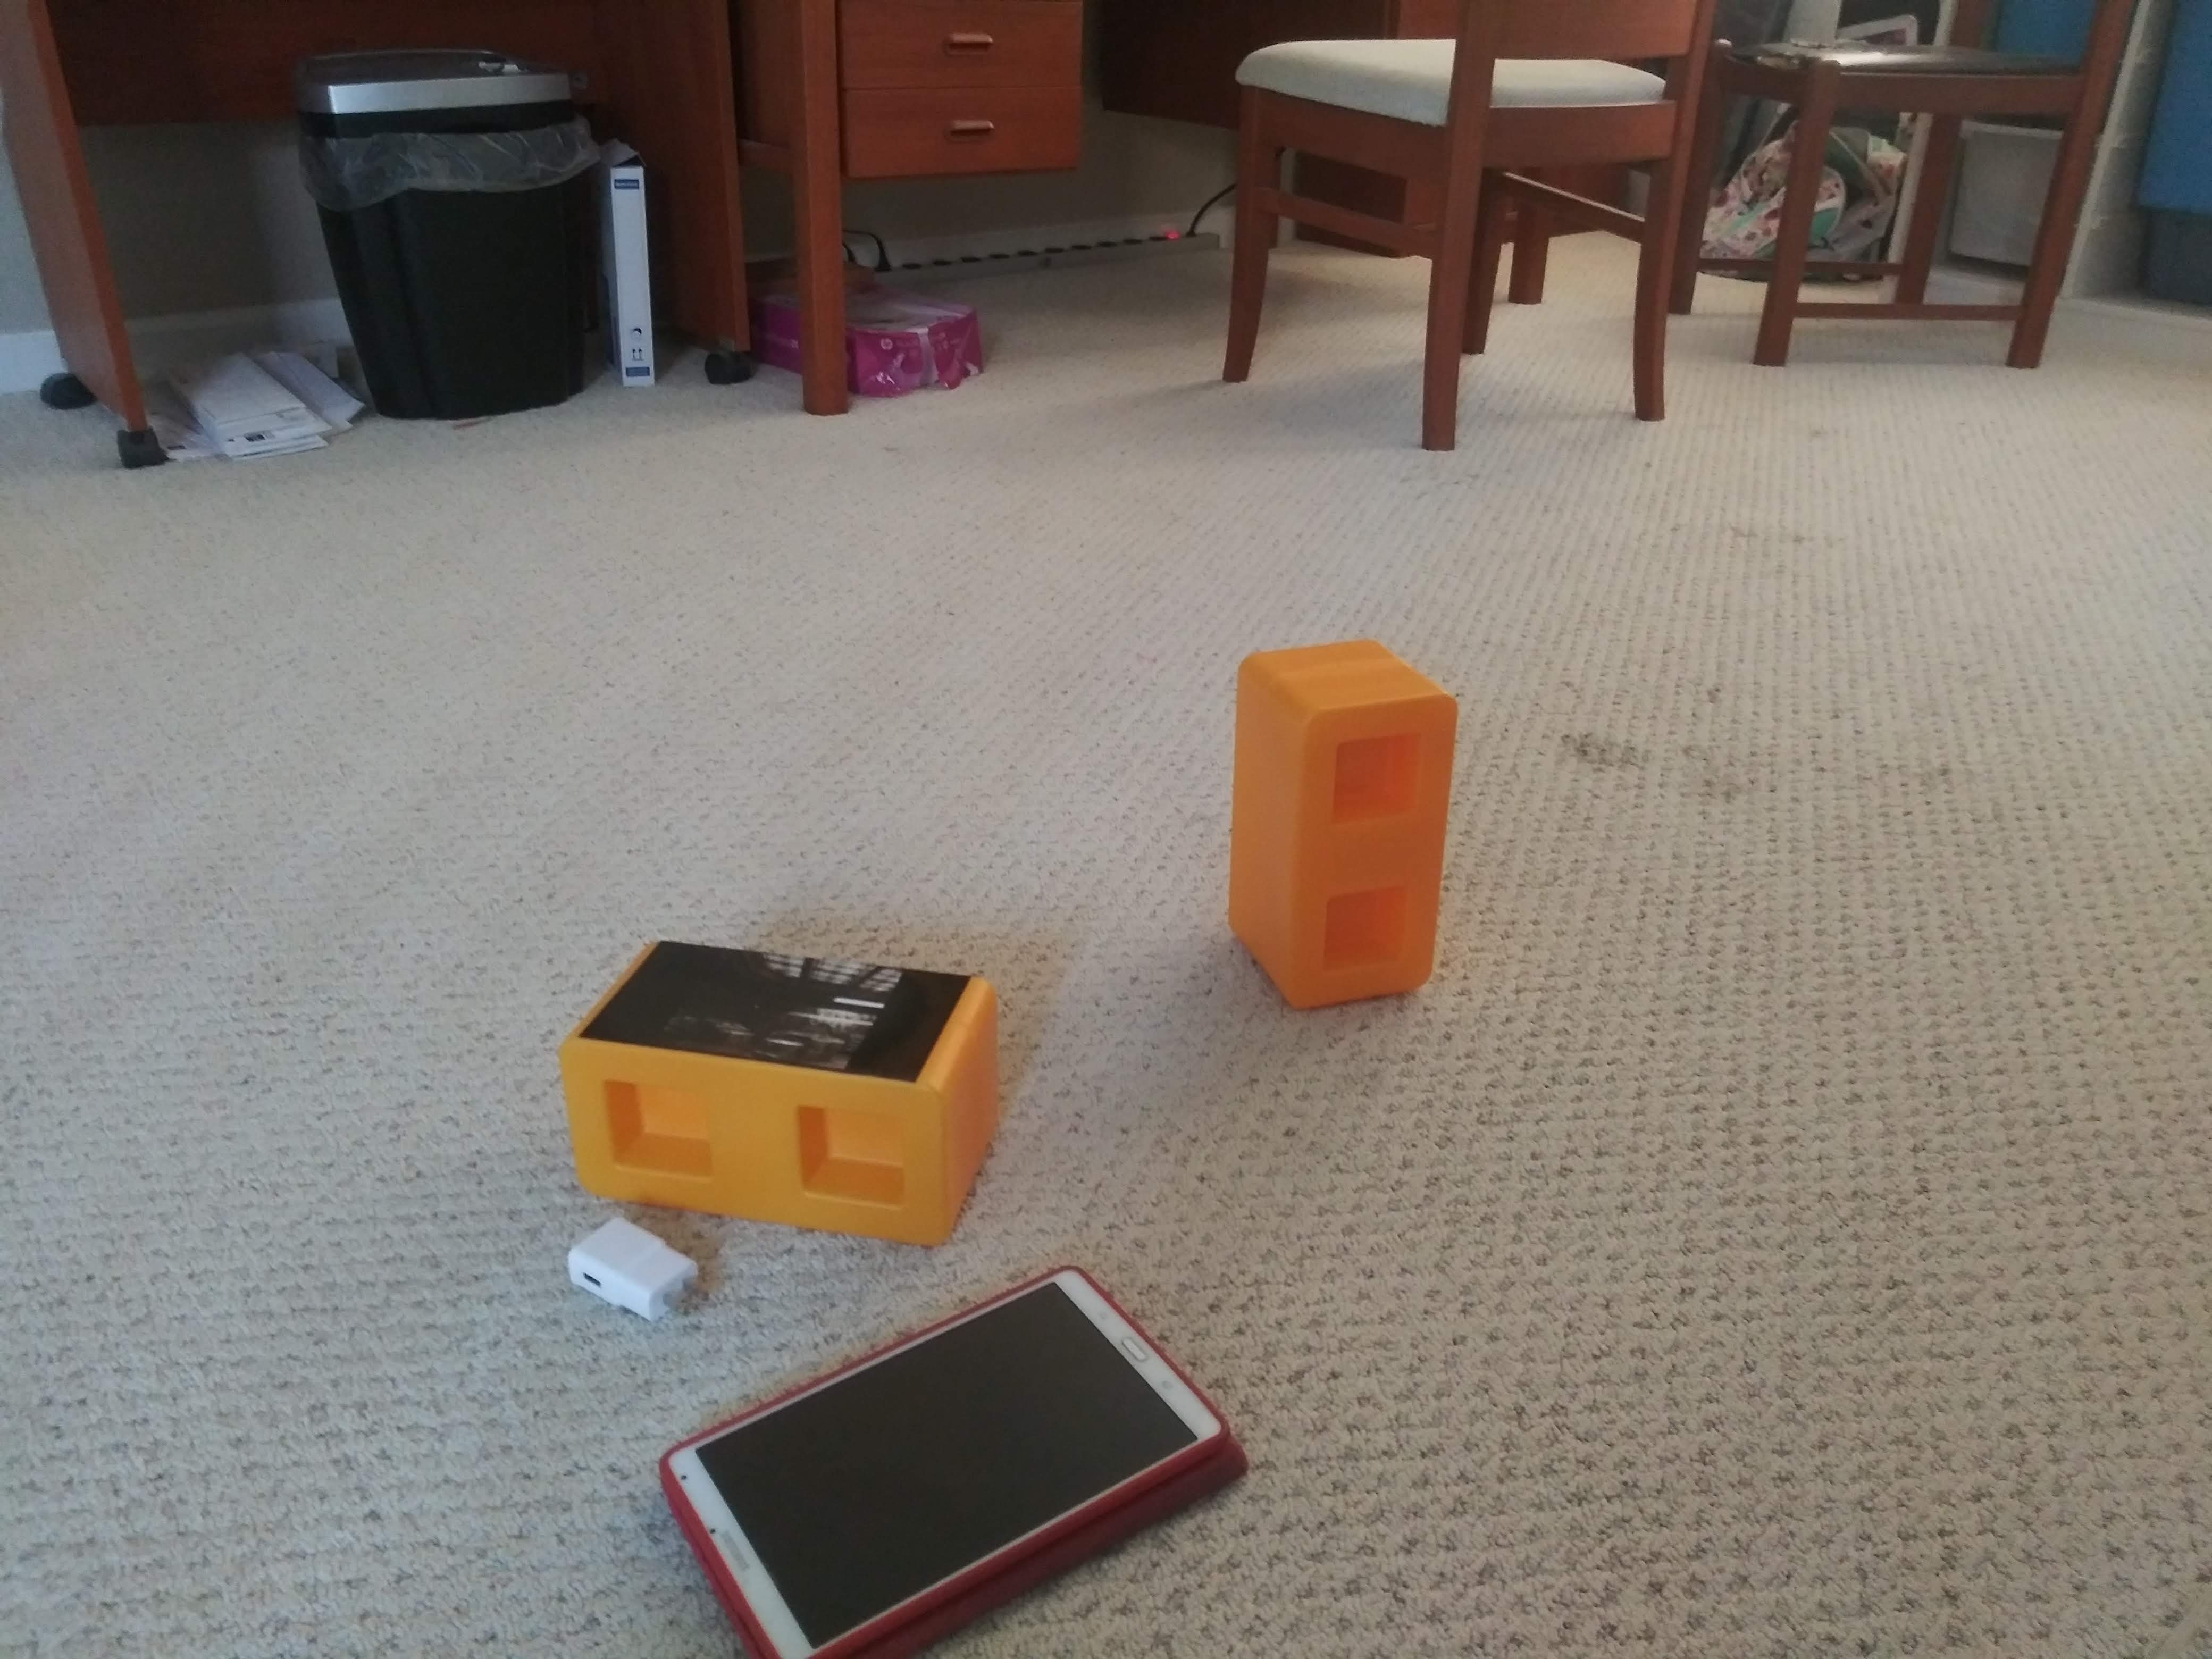skystone: (571, 943, 988, 1243)
stone: (1231, 647, 1453, 1016)
